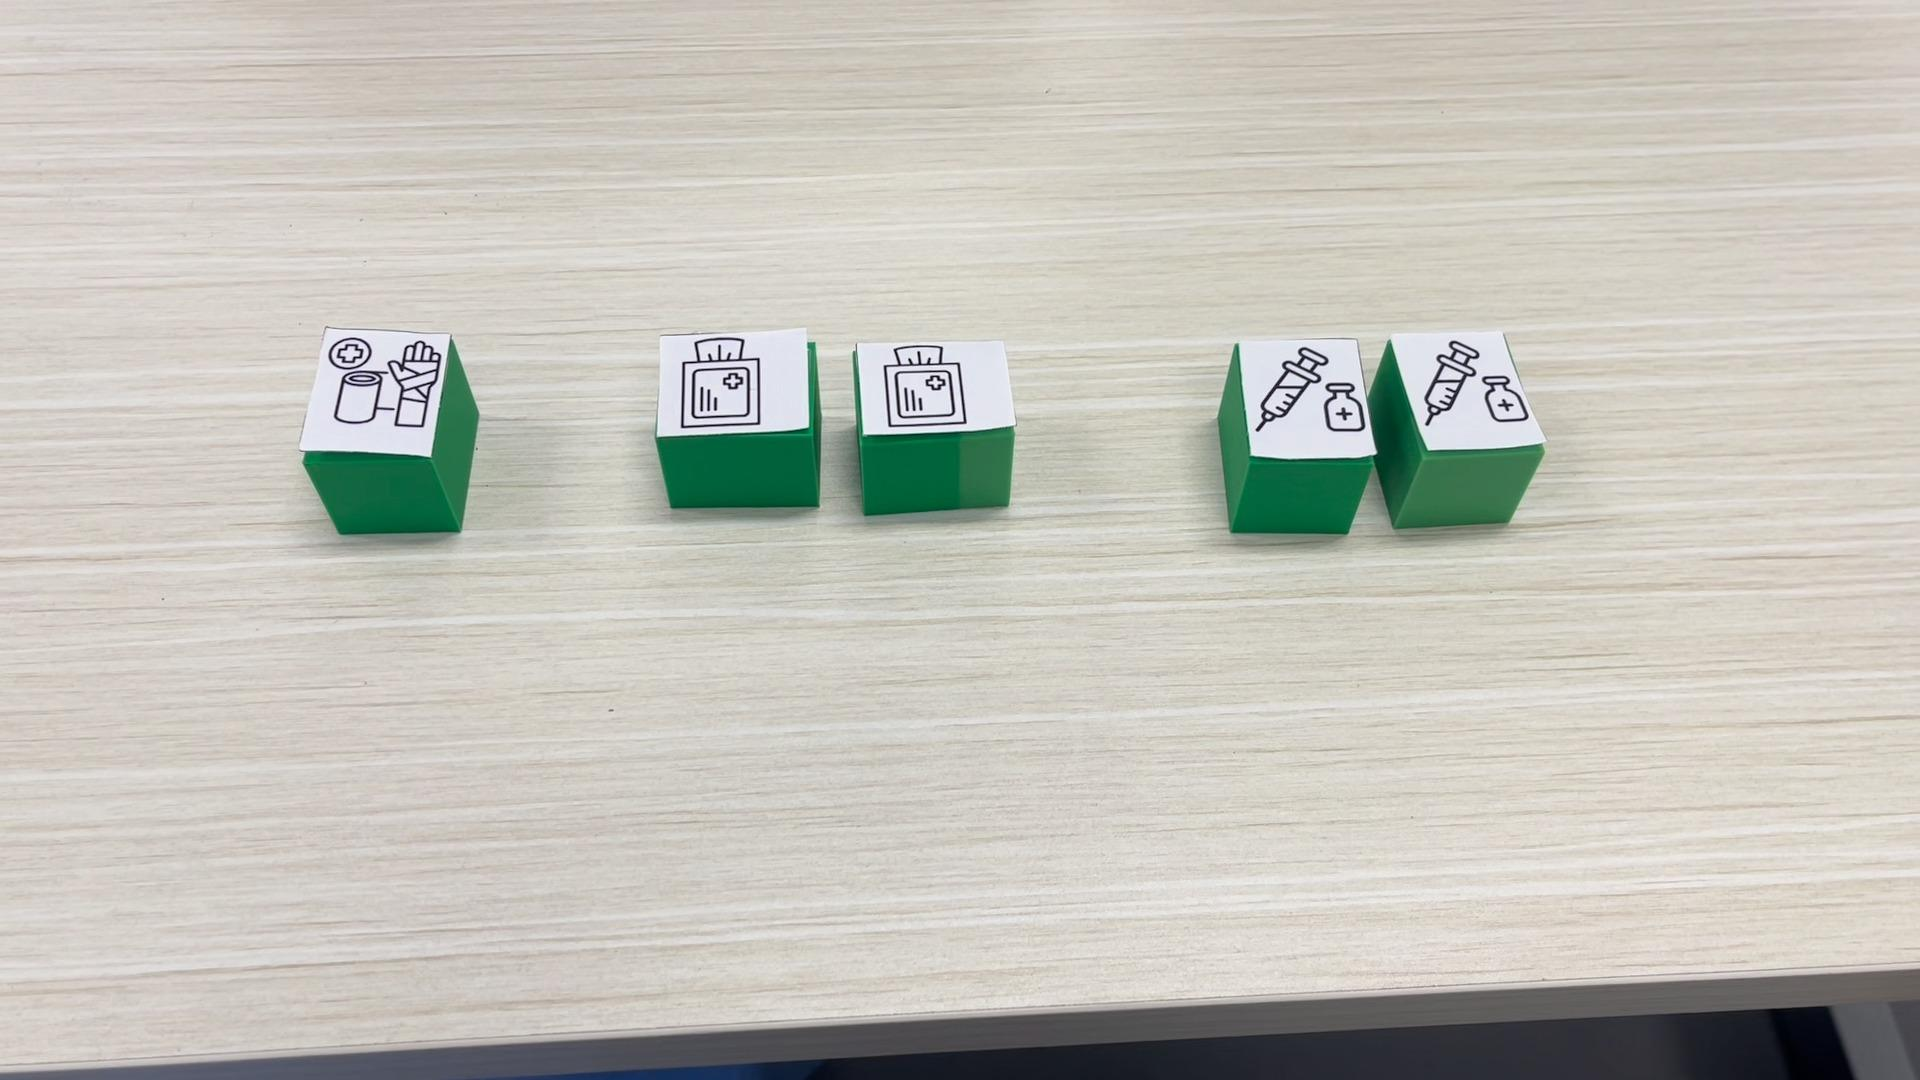Bandages: (298, 328, 477, 535)
Gauze: (655, 327, 820, 509), (856, 334, 1019, 516)
antiseptic cream: (1374, 328, 1545, 529), (1218, 335, 1374, 534)
